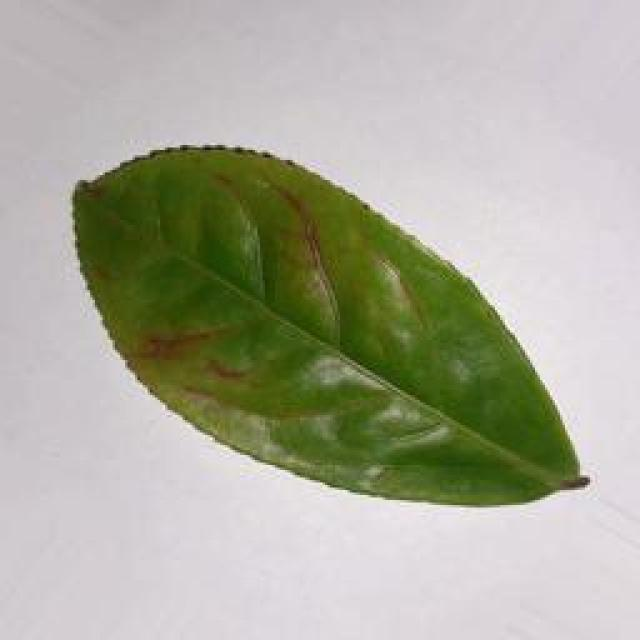Red Leaf Spot: (58, 135, 591, 495)
